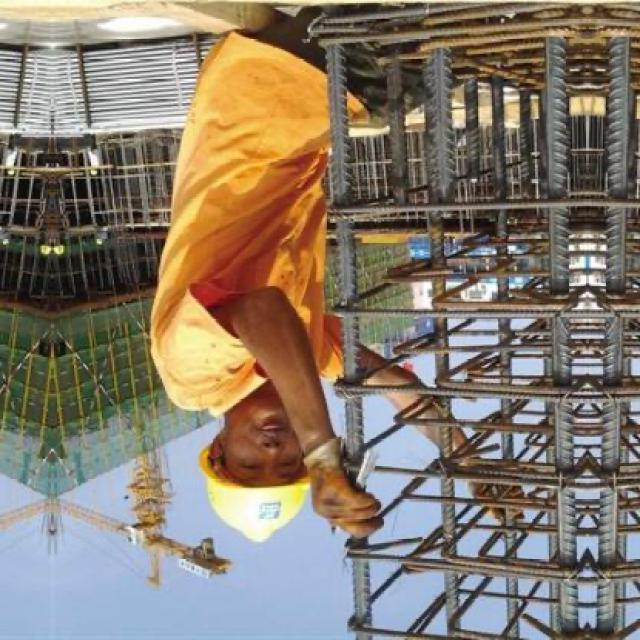con casco: (180, 423, 334, 570)
